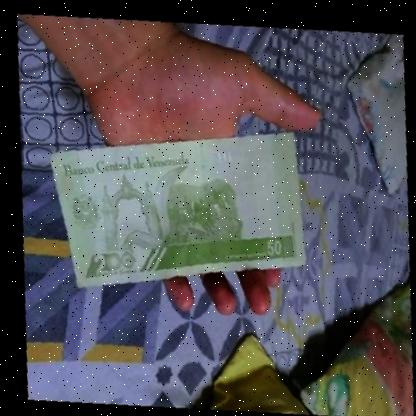fifty-back-vef: (46, 120, 310, 296)
